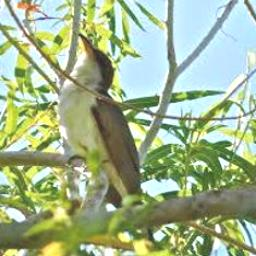Cuckoo: (58, 34, 169, 256)
